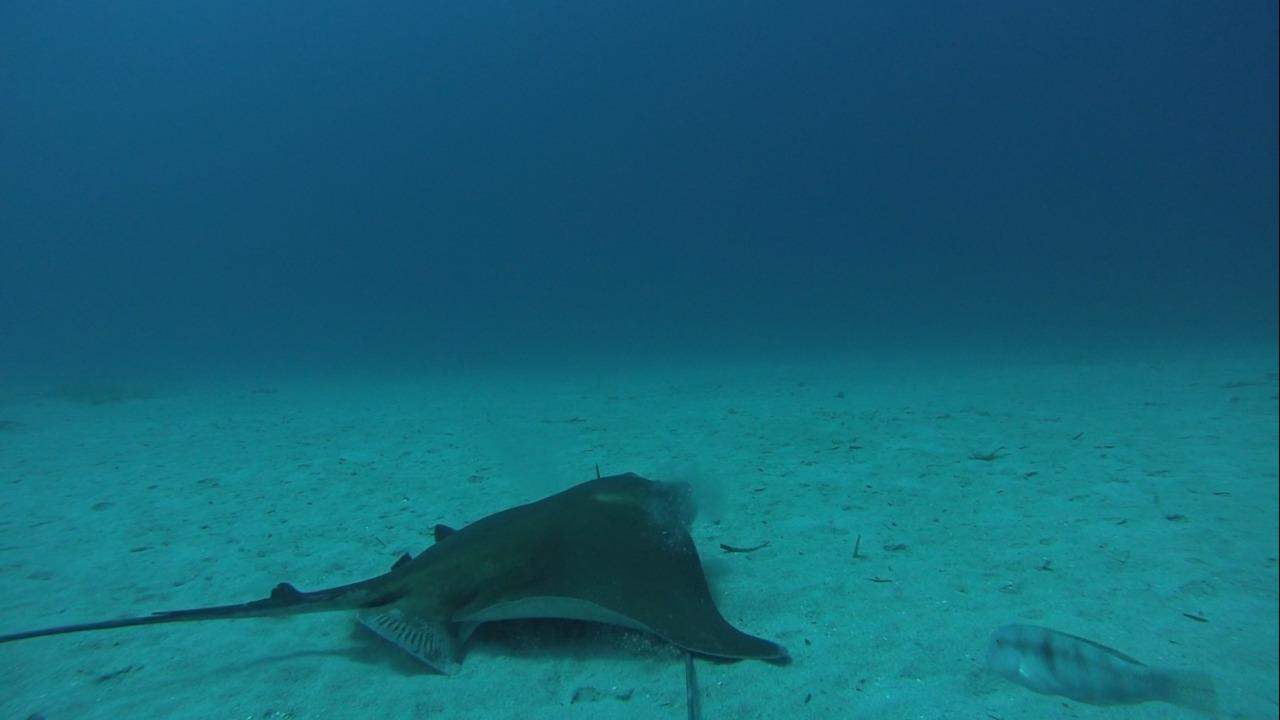myliobatis: (8, 467, 803, 682)
raor: (981, 617, 1230, 717)
